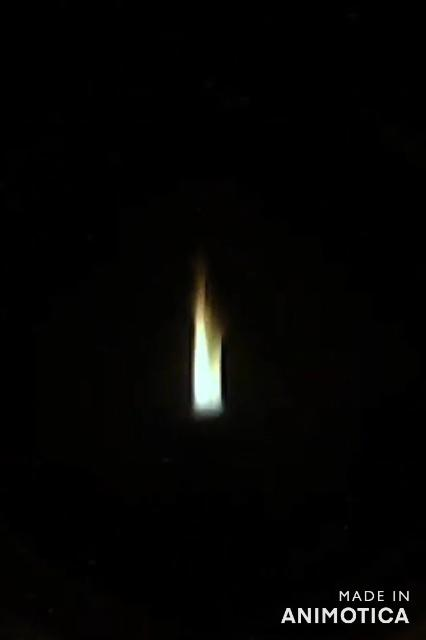burner flame: (191, 267, 229, 415)
